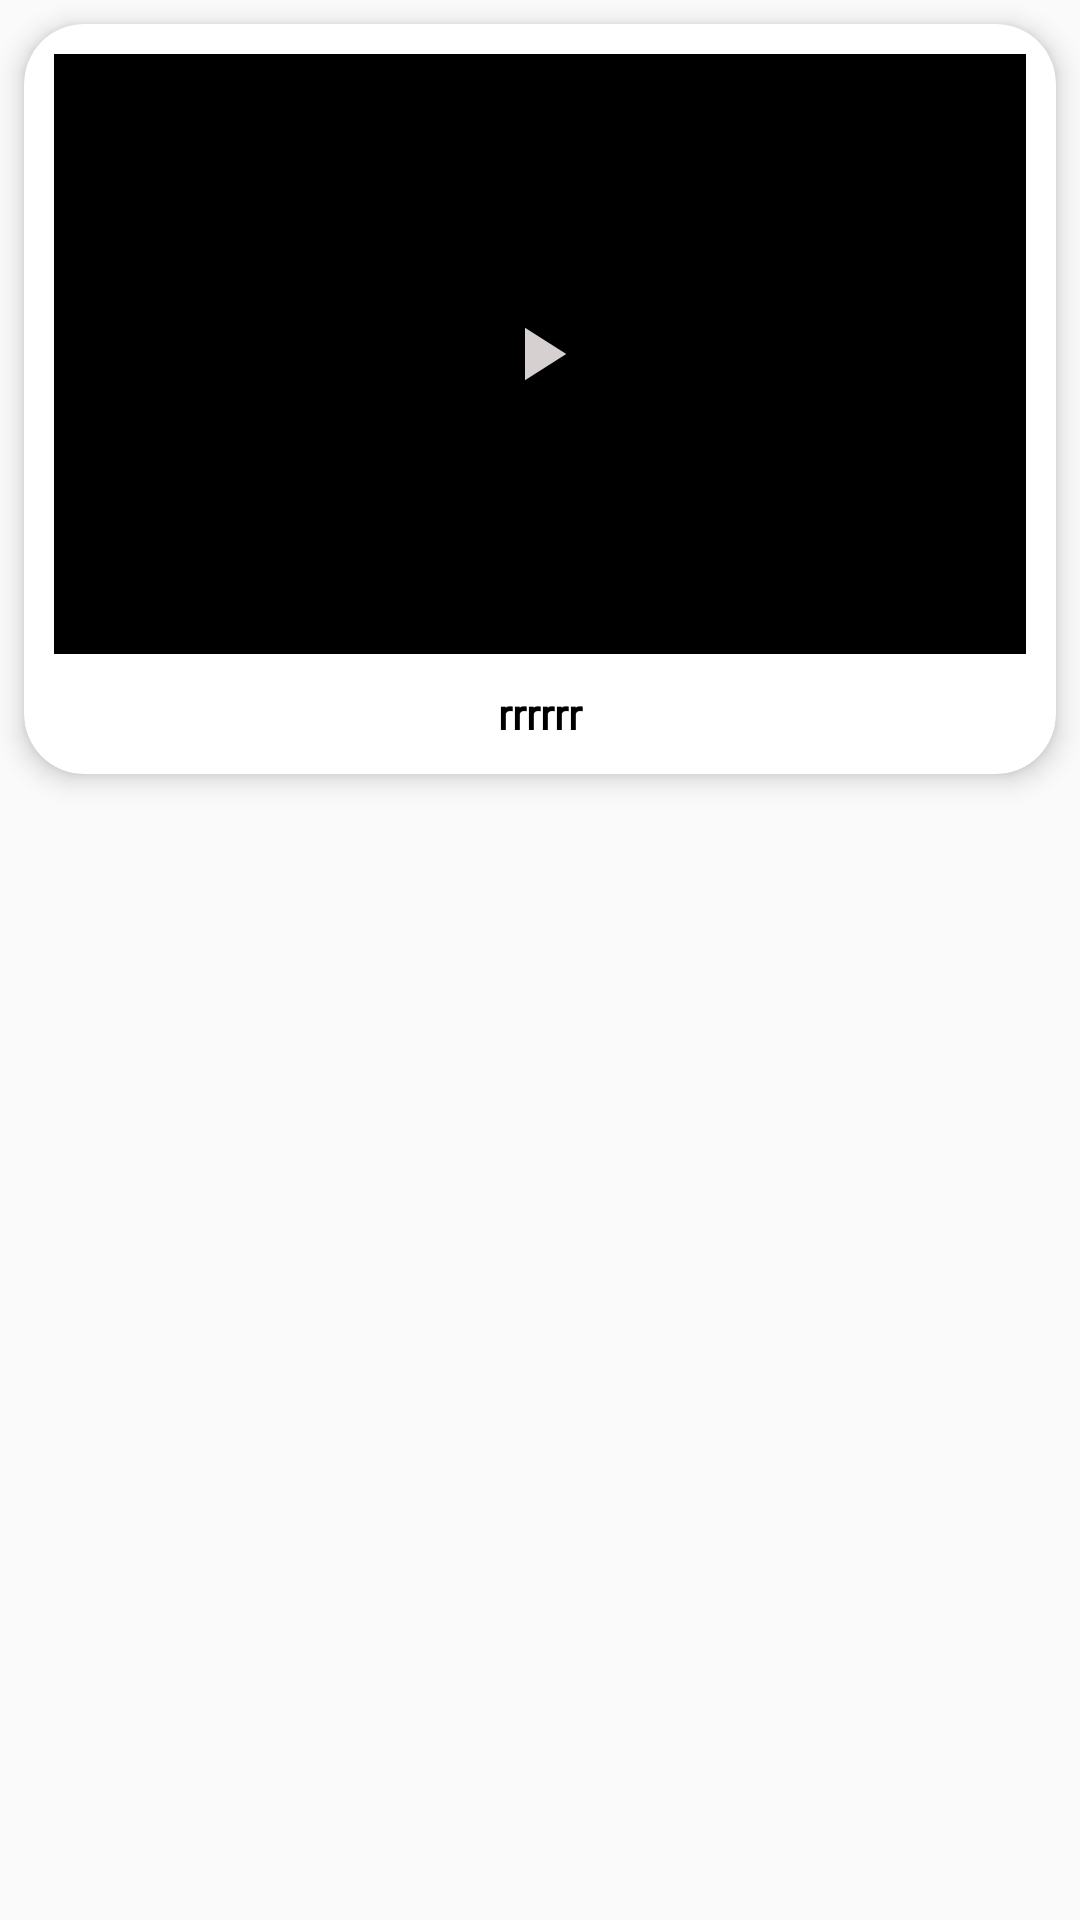

Icons on this 1080x1920 Android screen, each with the point to tap as (x,y):
play: (545,354)
